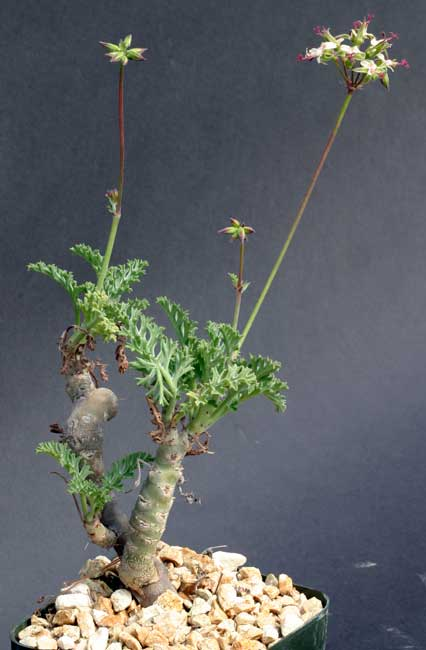Pachypodium meridionale: (44, 12, 401, 581)
